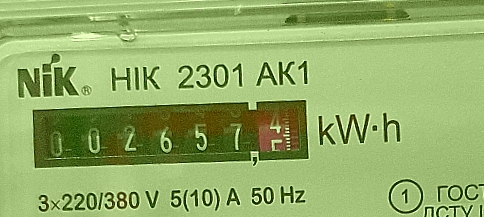0: (85, 124, 102, 155), (47, 128, 65, 157)
2: (121, 122, 138, 153)
4: (267, 108, 283, 134)
5: (192, 121, 210, 152), (269, 137, 285, 152)
6: (157, 123, 173, 154)
7: (228, 119, 245, 152)
screen: (22, 82, 321, 186)
